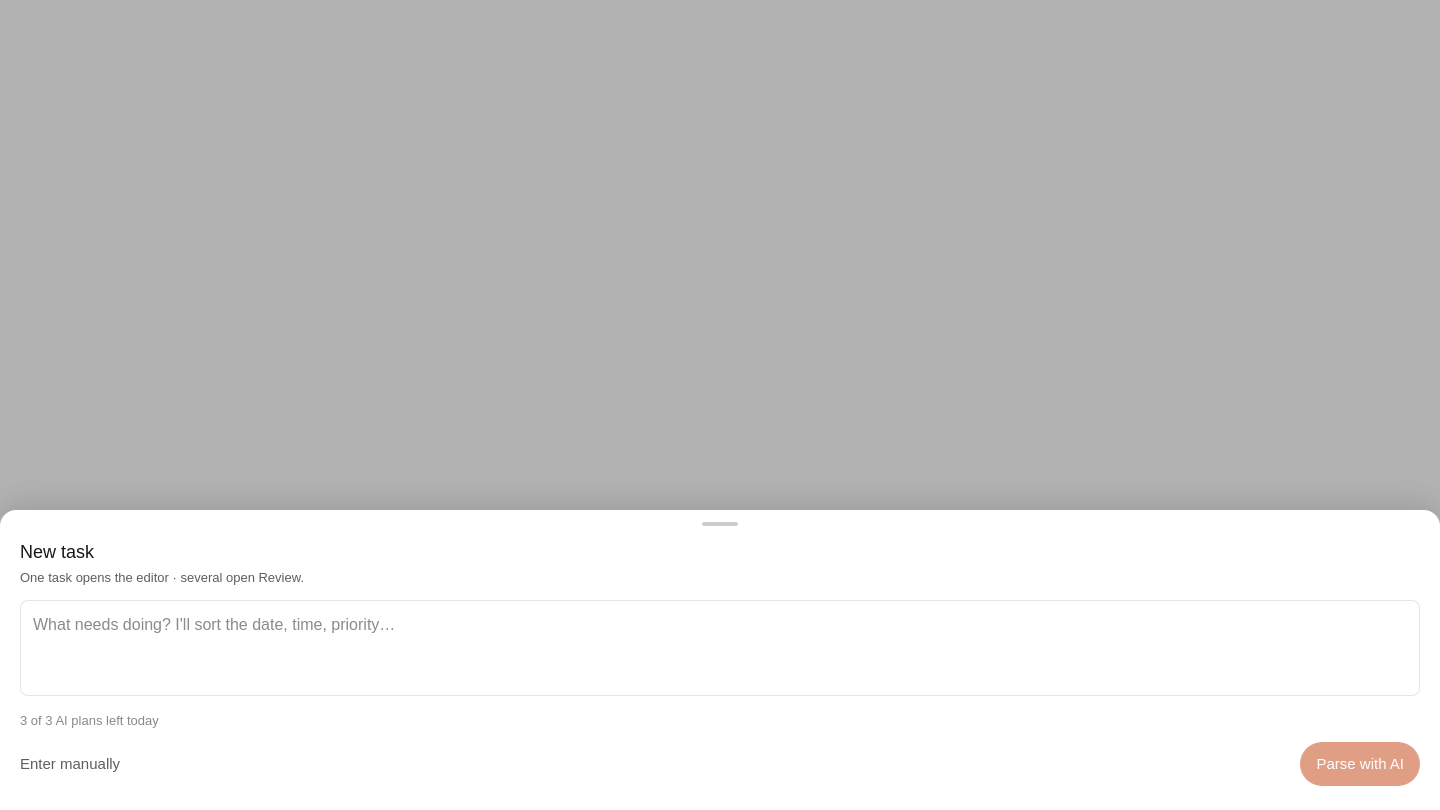
QuickAddSheet › Enter manually opens a blank editor
Click the button "Enter manually".
click(70, 764)  # box 20,742 -> 120,786
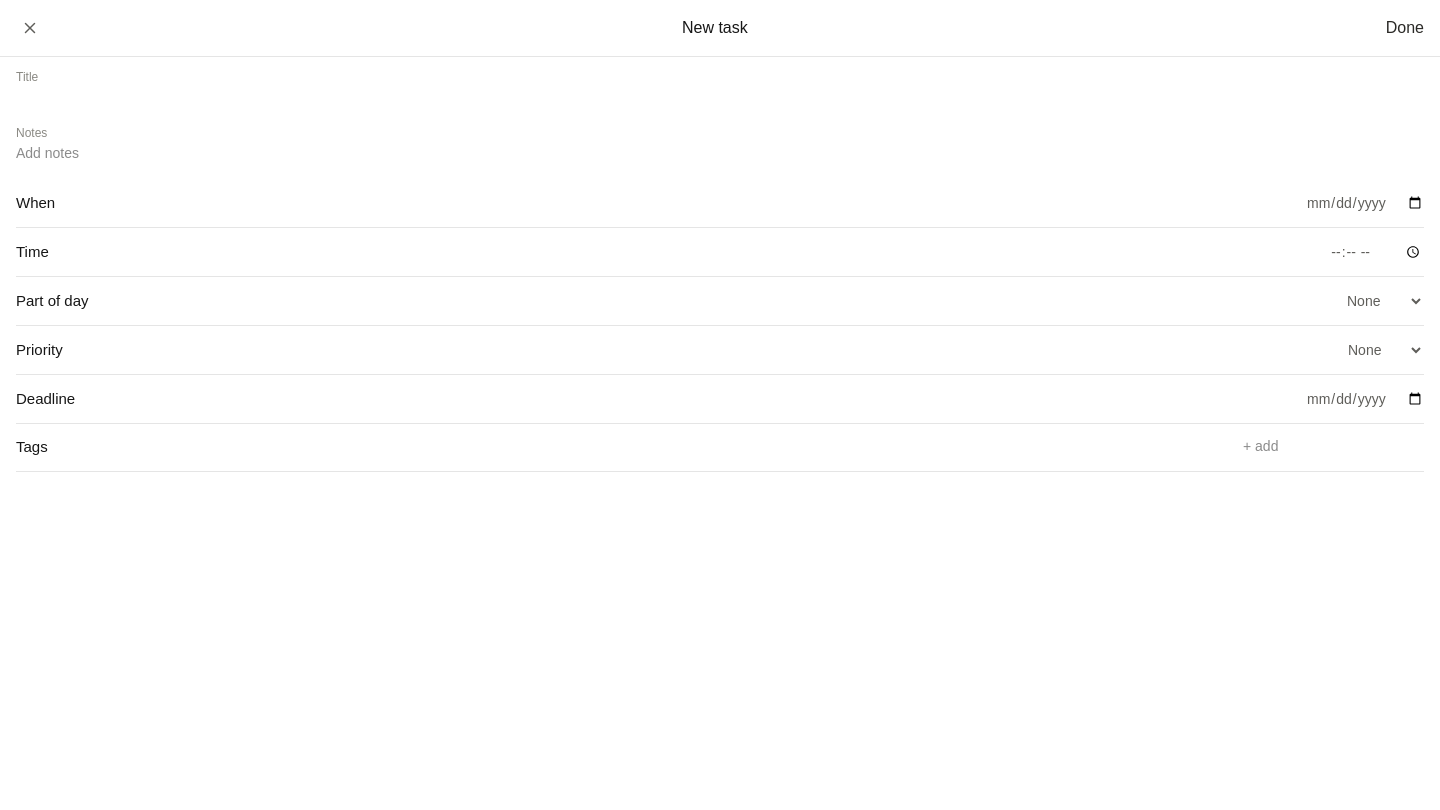
Expected: the dialog "New task" is shown
